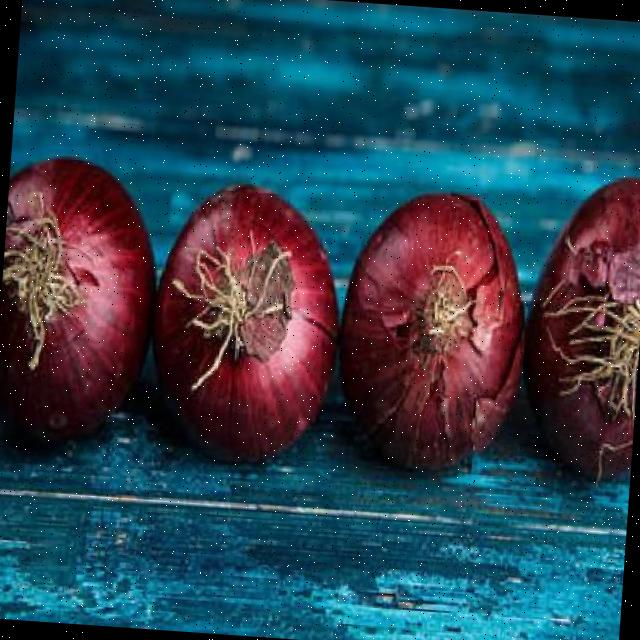Onion: (153, 185, 338, 462), (341, 194, 524, 470), (0, 158, 153, 443), (528, 179, 640, 479)
